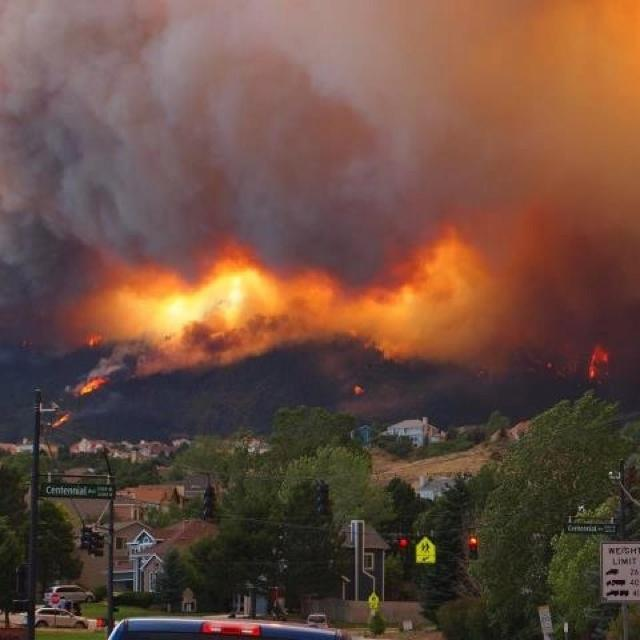Fire: (583, 344, 613, 391), (74, 374, 114, 400), (53, 408, 79, 428)
Smoke: (135, 307, 343, 383), (63, 338, 149, 400)
